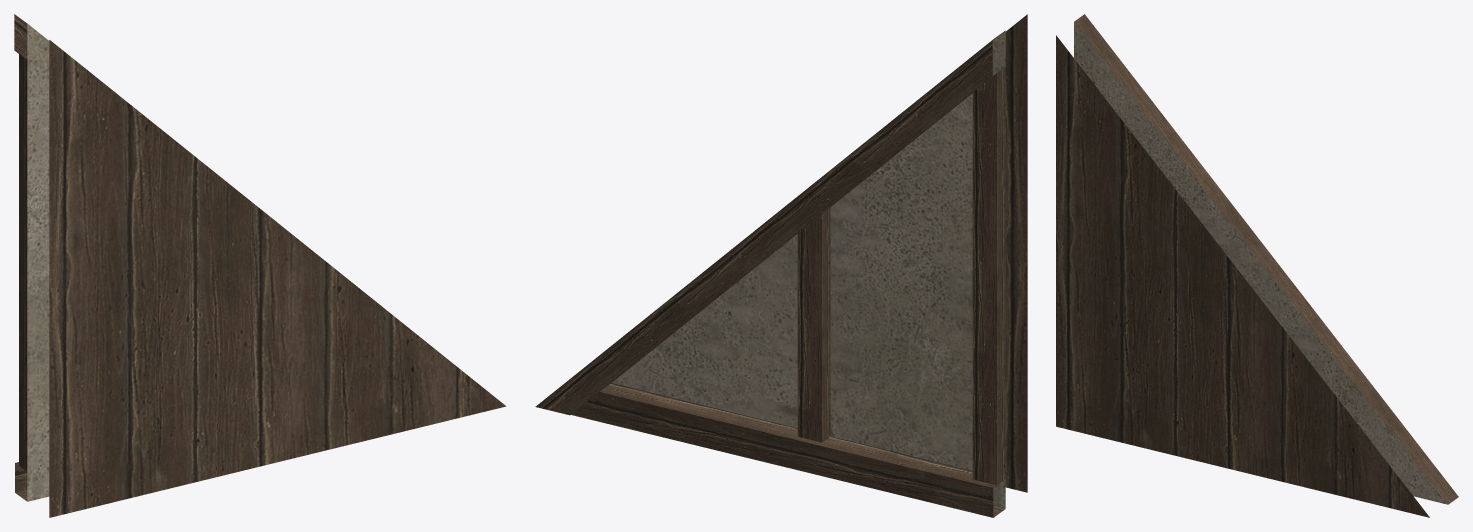
Rendered from ARC1010260.fbx.
The picture shows the model from 3 angles, left to right: view 1: azimuth 30°, elevation 25°; view 2: azimuth 150°, elevation 25°; view 3: azimuth 330°, elevation 25°; orthographic projection. The views are drawn at different scales.
Parts seen in each view (by area): view 1: smARC1010260; view 2: smARC1010260; view 3: smARC1010260.
Part boxes in pixels (x1=…): smARC1010260: x1=14, y1=14, x2=506, y2=517; smARC1010260: x1=535, y1=14, x2=1027, y2=517; smARC1010260: x1=1056, y1=14, x2=1458, y2=517.
Size of the model in its own units: 268 by 268 by 35.62.
Materials: 1 (1 with a texture image).
